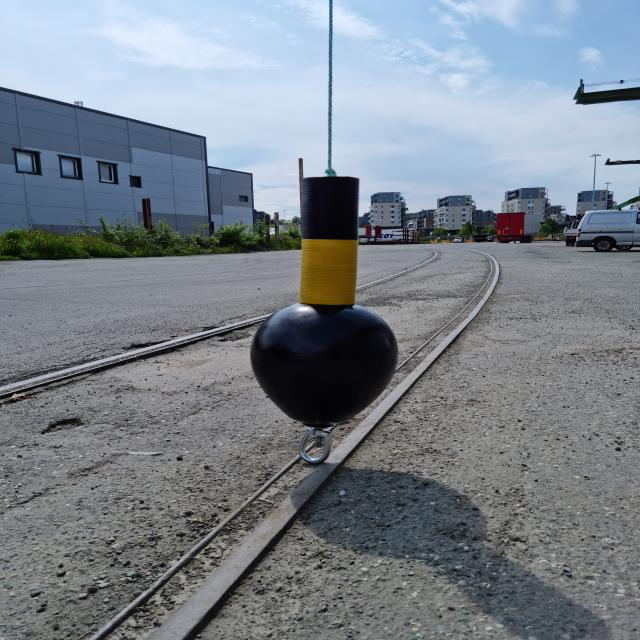east: (250, 176, 400, 427)
